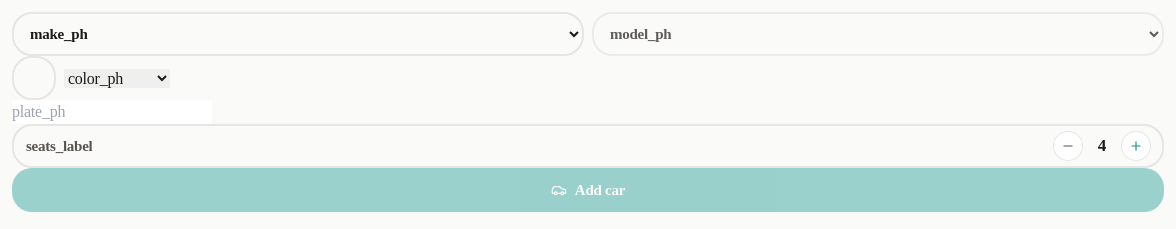
Test: CarForm — catalog picker + free-text fallback › normalizes the plate as the user types
The image size is (1176, 229).
Type "01 kg-123" into the field with placeholder "plate_ph" at point(112, 112), box [12,100,212,124]
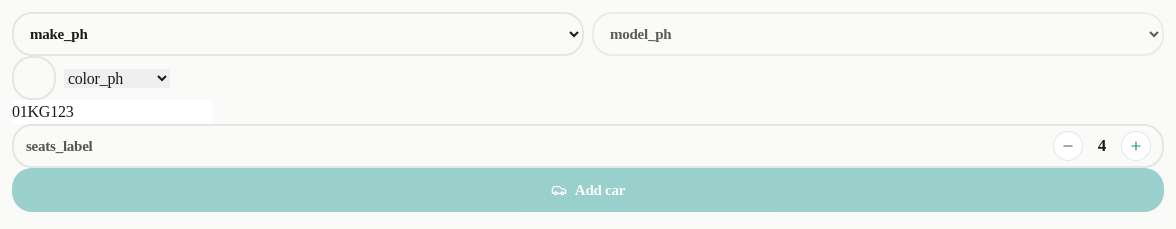
Expected: the field with placeholder "plate_ph" holds "01KG123", [12,100,212,124]
